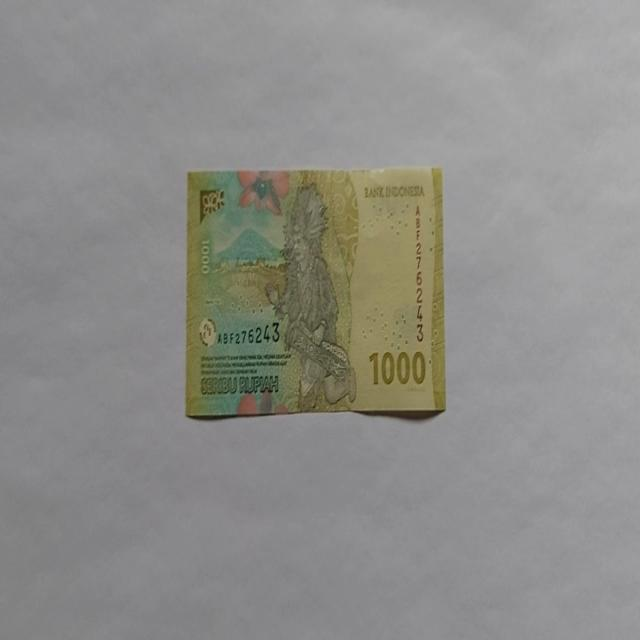seribu rupiah kertas: (185, 166, 446, 420)
